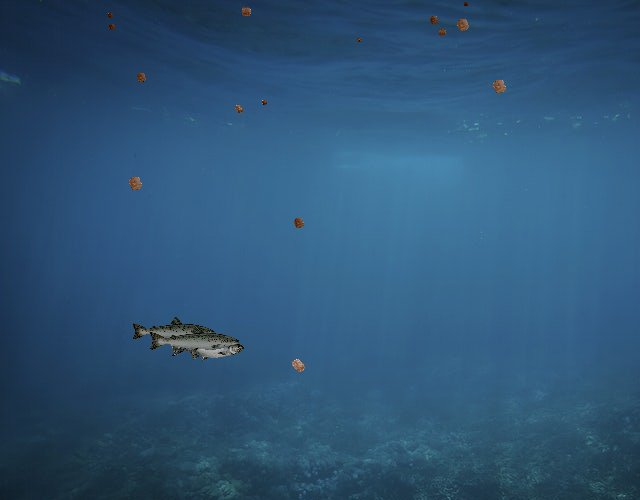Fish: (147, 324, 241, 358), (130, 315, 216, 346), (172, 336, 245, 362)
Pellet: (284, 351, 312, 379), (121, 169, 149, 197), (450, 12, 476, 38), (288, 212, 310, 234), (230, 100, 248, 118), (258, 97, 270, 109)
